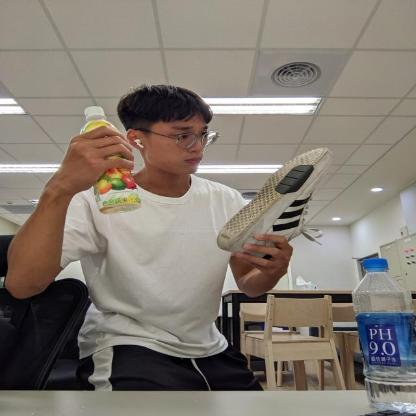Plastic Bottle: (351, 257, 415, 413), (78, 104, 142, 214)
